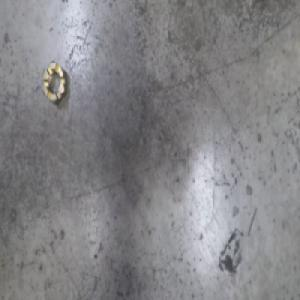Nut: (40, 58, 68, 107)
